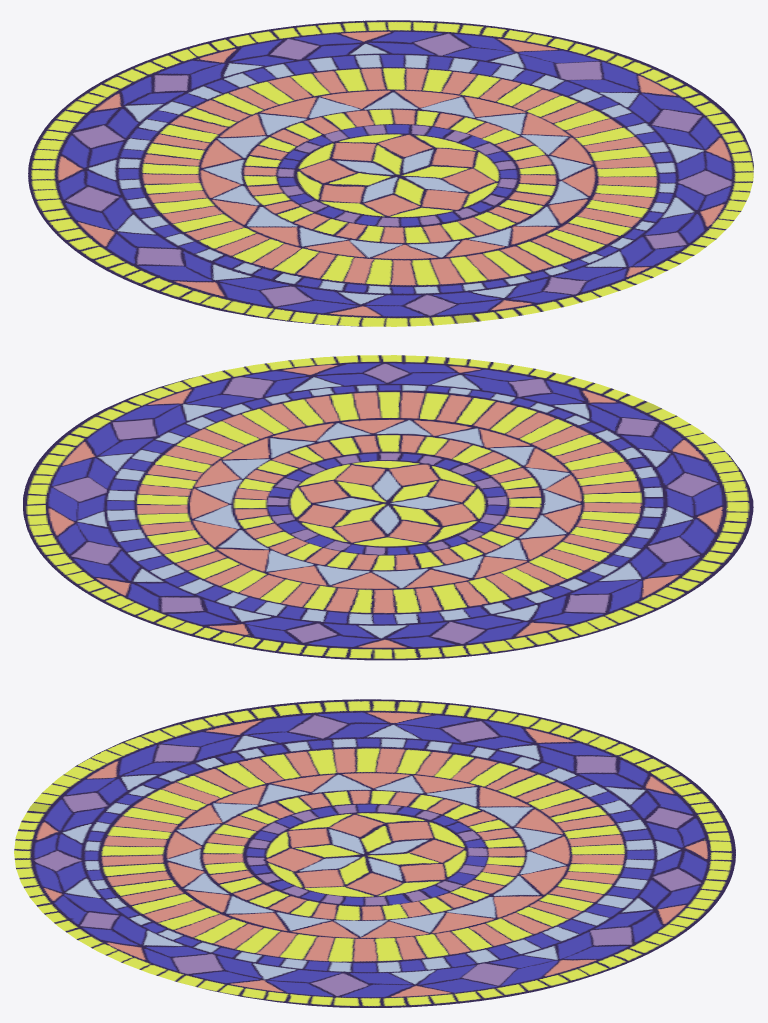
File: plane-for-platforms.fbx
The picture shows the model from 3 angles, top to bottom: view 1: azimuth 30°, elevation 25°; view 2: azimuth 150°, elevation 25°; view 3: azimuth 270°, elevation 25°; orthographic projection.
Parts seen in each view (by area): view 1: Circle; view 2: Circle; view 3: Circle.
Part boxes in pixels (box(x1,y1,x2,y2)): Circle: box(28, 20, 753, 326); Circle: box(23, 355, 753, 660); Circle: box(14, 699, 735, 1007).
Bounding box in the file's own units: 5000 × 0.000815 × 5000.
